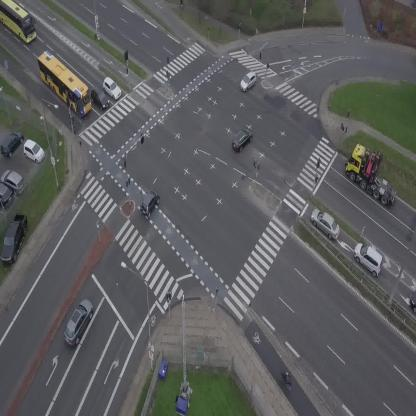bicycle: (279, 371, 295, 393), (68, 114, 75, 129), (177, 0, 185, 7)
bus: (29, 48, 101, 119)
car: (59, 296, 99, 348), (348, 239, 390, 279), (305, 205, 345, 242), (136, 187, 164, 219), (227, 125, 257, 154), (86, 85, 114, 112), (98, 76, 125, 101), (236, 69, 261, 93), (410, 291, 416, 314)
lorry: (337, 137, 402, 217)
